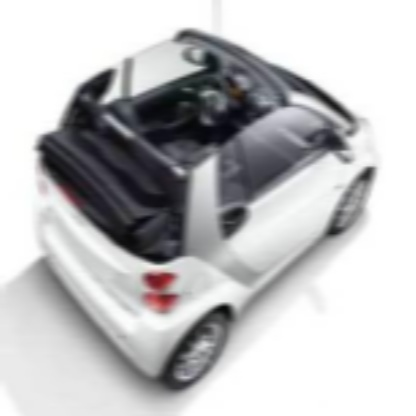Vehicle: (36, 2, 381, 396)
